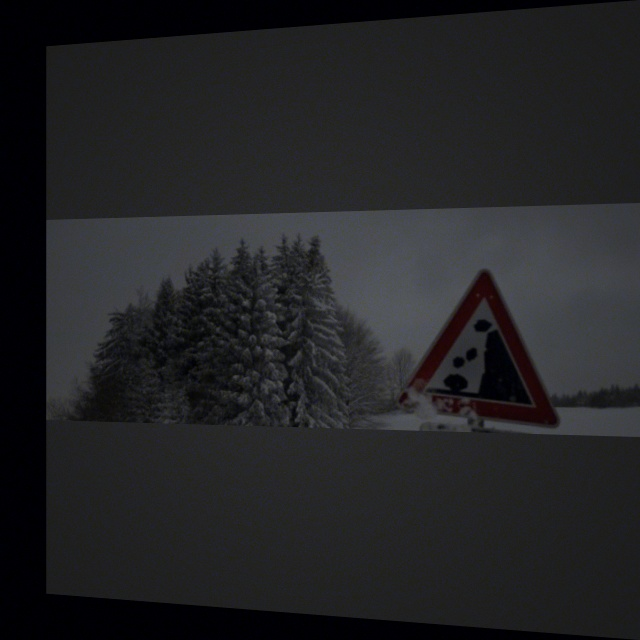Falling_Rocks: (405, 267, 558, 428)
